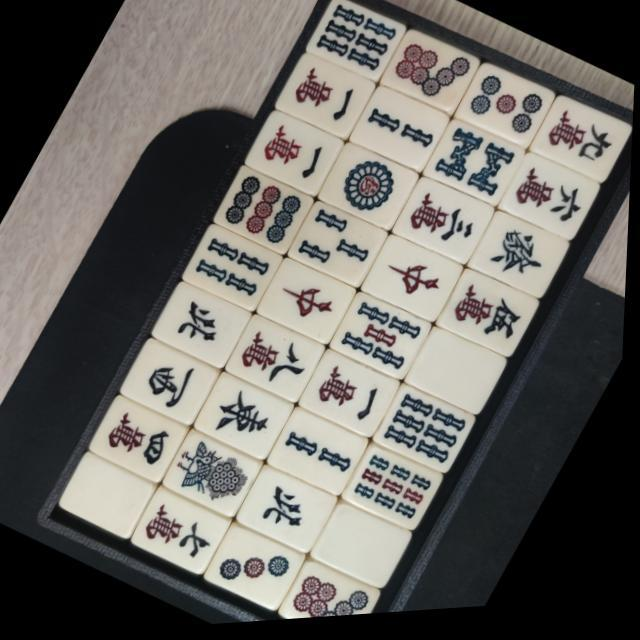hdg: (473, 217, 569, 307)
hdr: (260, 261, 356, 348), (368, 239, 462, 324)
hdw: (411, 334, 506, 422), (320, 508, 410, 593), (67, 459, 152, 536)
hwe: (200, 377, 293, 464)
hwn: (245, 471, 337, 556), (158, 287, 248, 368)
hww: (128, 344, 214, 424)
sb1: (166, 432, 264, 522)
sb2: (352, 89, 448, 178), (272, 412, 368, 500)
sb3: (290, 204, 386, 294)
sb4: (186, 228, 280, 314)
sb5: (336, 297, 431, 385)
sb6: (379, 390, 477, 480), (308, 0, 404, 87)
sb8: (428, 124, 524, 213)
sb9: (350, 449, 444, 536)
sc1: (279, 55, 374, 144), (250, 115, 339, 198), (306, 358, 394, 439)
sc3: (400, 183, 492, 270)
sc4: (96, 400, 186, 483)
sc5: (442, 276, 537, 364)
sc6: (505, 160, 599, 246)
sc7: (135, 490, 229, 576)
sc8: (231, 318, 325, 406)
sc9: (534, 100, 631, 190)
sd1: (321, 145, 417, 235)
sd3: (211, 528, 306, 615)
sd5: (460, 68, 552, 154)
sd7: (382, 32, 476, 120), (286, 564, 382, 624)
sd9: (216, 170, 309, 258)
